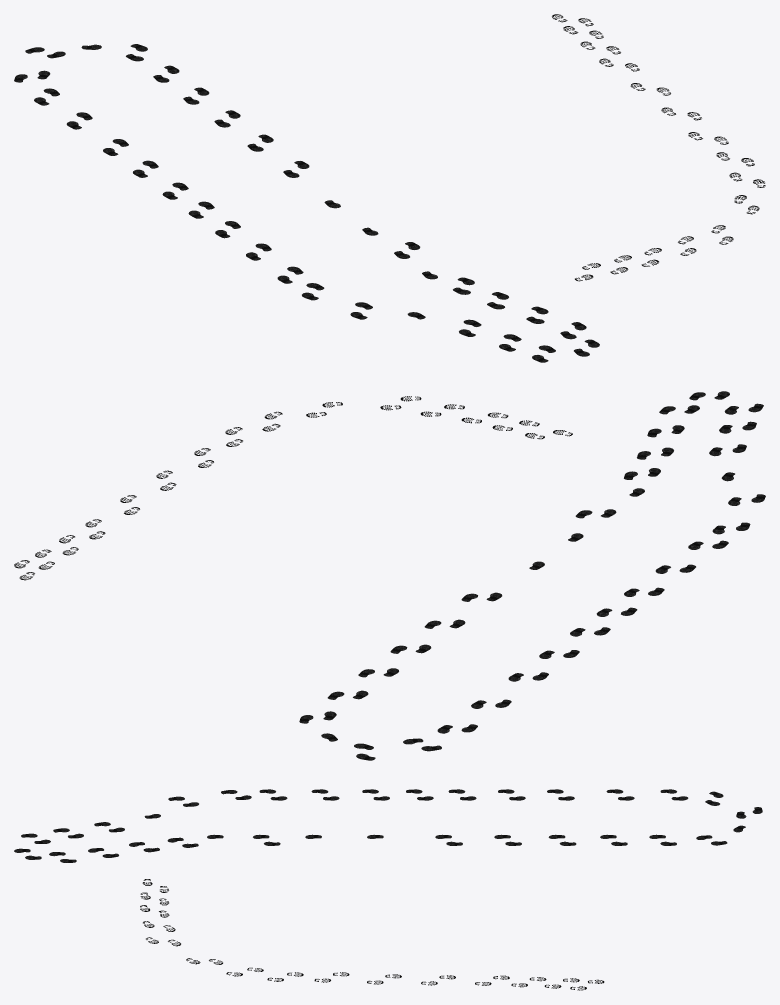
The model's file is STORE FLOOR FOOT MARKS.fbx.
3 renders of one model, top to bottom at view 1: azimuth 30°, elevation 25°; view 2: azimuth 150°, elevation 25°; view 3: azimuth 270°, elevation 25°, orthographic. The views are drawn at different scales.
Bounding box in the file's own units: 7.22 × 0.000279 × 11.4.
2 materials, 2 textured.
